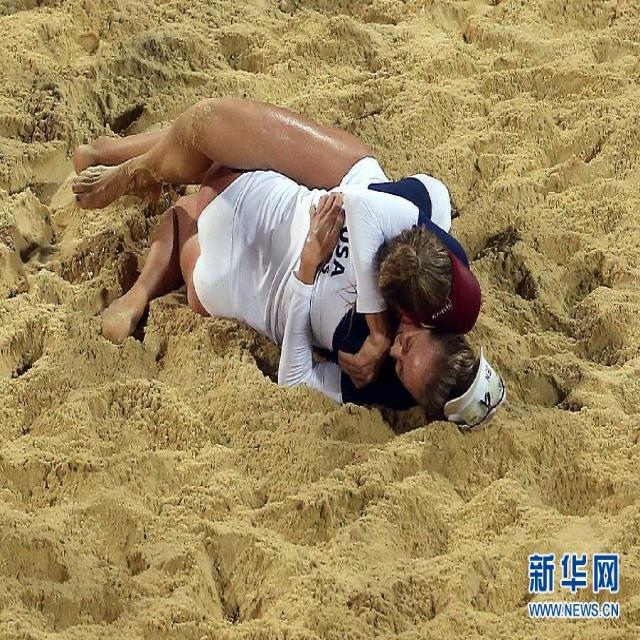down: (97, 166, 515, 444), (63, 76, 473, 350)
